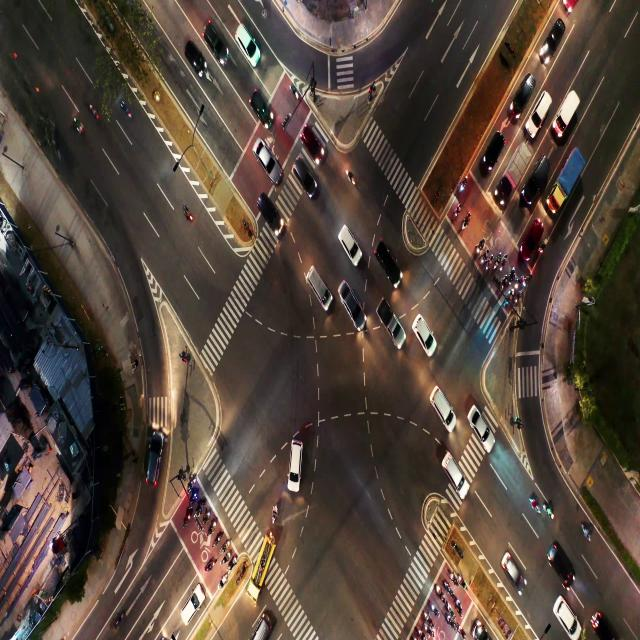bus: (259, 552, 267, 571)
car: (417, 317, 431, 342), (149, 442, 160, 467), (548, 554, 564, 571), (502, 552, 514, 574), (486, 138, 498, 160), (312, 270, 322, 295), (476, 414, 486, 439), (538, 166, 550, 186), (188, 595, 198, 618), (344, 288, 354, 309), (550, 30, 560, 50), (340, 228, 351, 246), (449, 460, 458, 482), (538, 100, 547, 121), (258, 623, 268, 640), (266, 202, 275, 220), (296, 160, 304, 180), (560, 602, 568, 622), (379, 245, 388, 262), (519, 82, 527, 101), (240, 26, 248, 44), (260, 149, 272, 161), (531, 224, 539, 242), (254, 98, 264, 111), (188, 49, 198, 60), (308, 132, 317, 144), (292, 448, 298, 466), (206, 28, 216, 38), (437, 394, 444, 407)
motorcycle: (90, 104, 104, 120), (184, 204, 193, 227), (544, 502, 553, 522), (121, 102, 132, 118), (528, 493, 537, 512), (345, 171, 356, 185), (289, 82, 297, 99), (73, 116, 84, 128), (583, 524, 590, 542), (208, 556, 214, 572), (272, 508, 277, 524), (541, 240, 546, 251), (197, 504, 202, 514), (462, 178, 466, 190), (424, 625, 430, 633), (230, 559, 235, 568), (482, 253, 487, 262), (116, 614, 121, 622), (221, 576, 225, 586), (464, 217, 468, 227), (508, 294, 512, 304), (456, 598, 461, 606), (416, 626, 421, 634), (456, 205, 460, 214), (436, 584, 439, 596), (224, 542, 228, 550), (223, 555, 227, 563), (477, 243, 481, 251), (508, 279, 512, 287), (515, 297, 519, 305), (431, 603, 435, 611), (424, 612, 428, 620), (204, 512, 207, 522), (216, 534, 219, 544), (462, 578, 465, 588), (188, 480, 192, 487), (186, 515, 190, 522), (448, 604, 452, 611), (447, 616, 451, 623), (192, 493, 195, 502), (210, 524, 213, 533), (487, 260, 490, 268), (494, 262, 498, 268), (451, 574, 455, 580), (446, 584, 449, 590), (460, 626, 463, 632), (514, 284, 518, 288), (500, 265, 502, 272), (502, 282, 504, 289), (524, 282, 526, 286)
truck: (380, 301, 396, 331), (561, 171, 572, 198), (564, 102, 572, 125), (509, 161, 518, 181)
